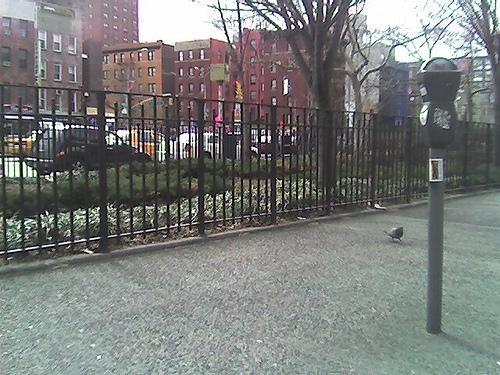car: (28, 127, 157, 174), (156, 132, 260, 162), (130, 130, 163, 158), (251, 135, 291, 151)
